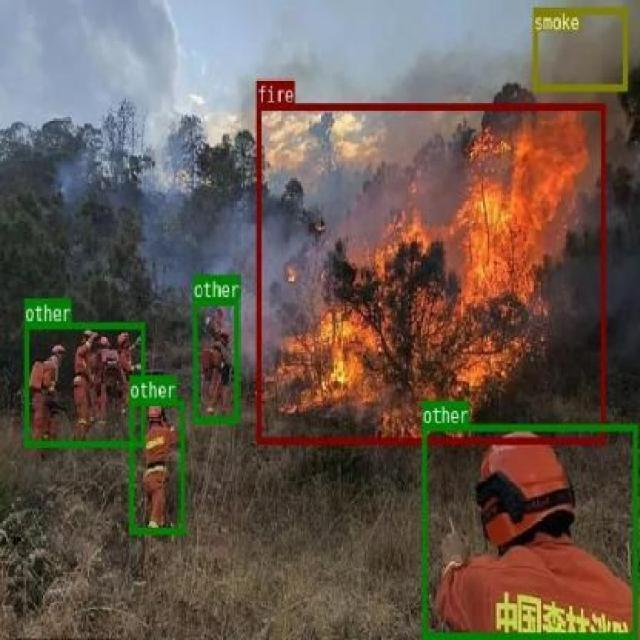fire: (256, 103, 605, 442)
smoke: (532, 7, 626, 89)
